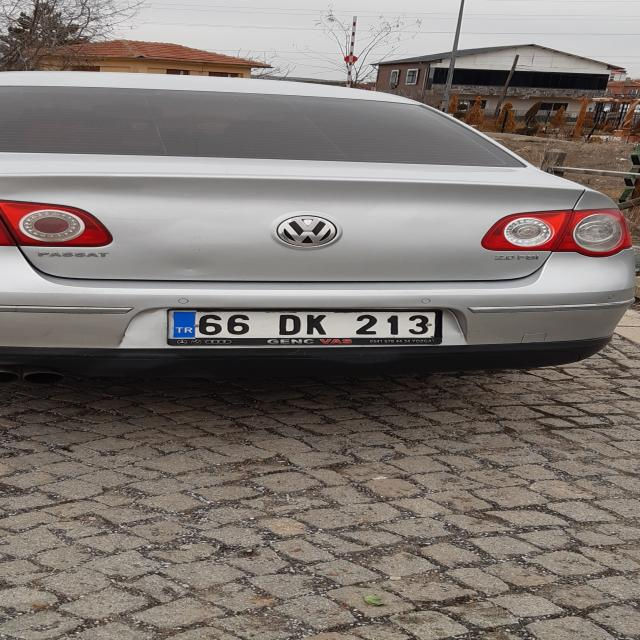plate: (167, 310, 438, 339)
